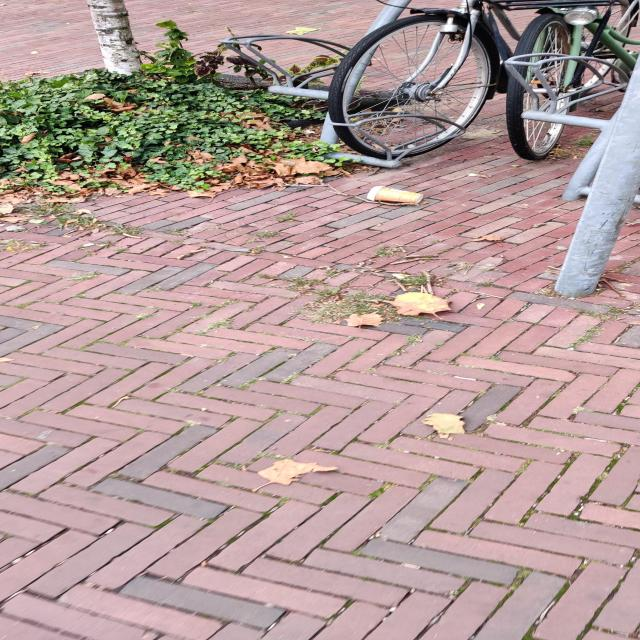litter: (366, 185, 424, 204)
